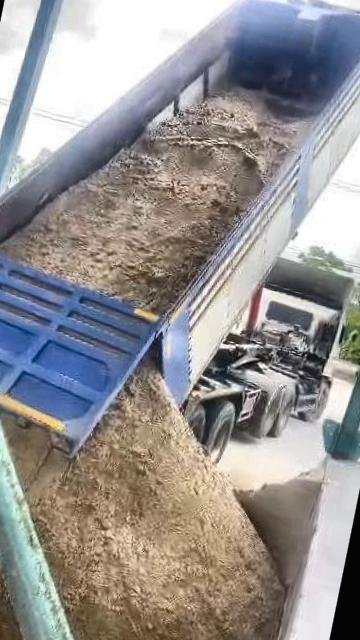sand: (6, 360, 282, 640), (0, 91, 308, 313), (236, 467, 321, 587), (0, 370, 21, 640)
